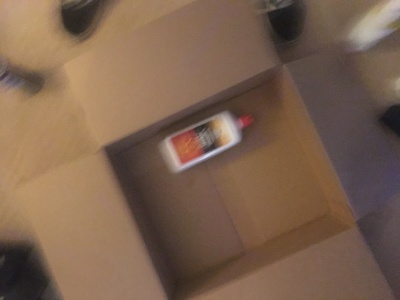innerbox: (119, 102, 338, 259)
outerbox: (47, 45, 390, 300)
product: (156, 111, 254, 170)
